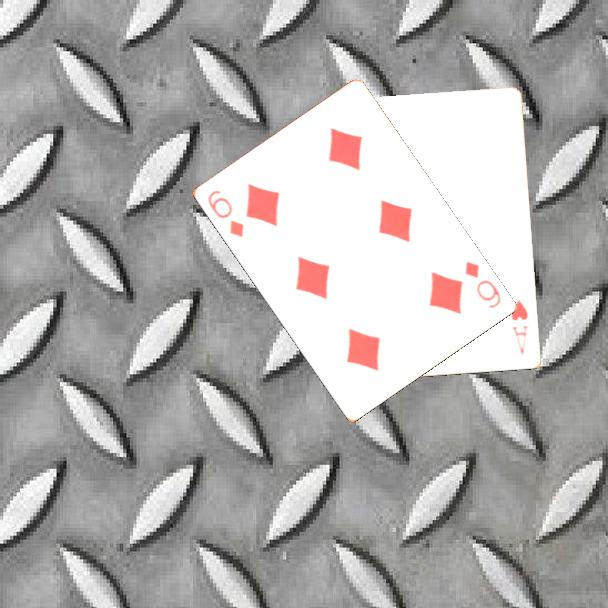d06: (204, 186, 247, 240), (461, 257, 503, 311)
h01: (508, 297, 531, 358)
